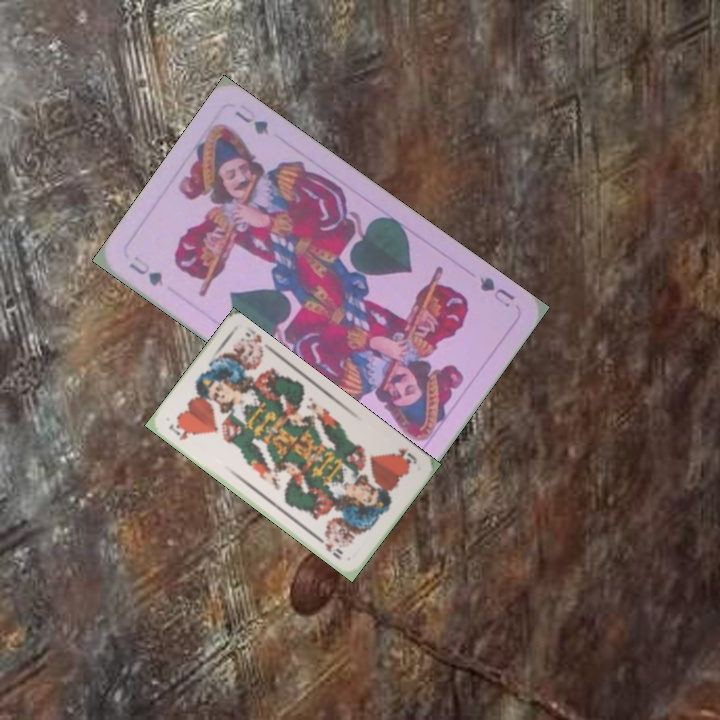GU: (475, 272, 517, 310), (125, 252, 167, 289)
HO: (388, 444, 419, 469), (165, 420, 192, 443)
